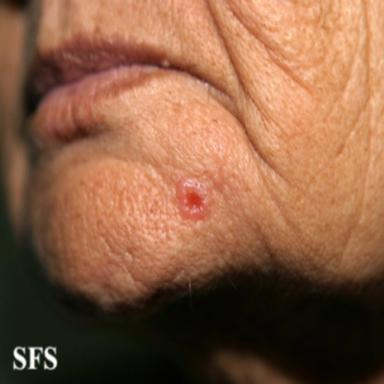basal-cell-carcinoma: (176, 178, 211, 221)
